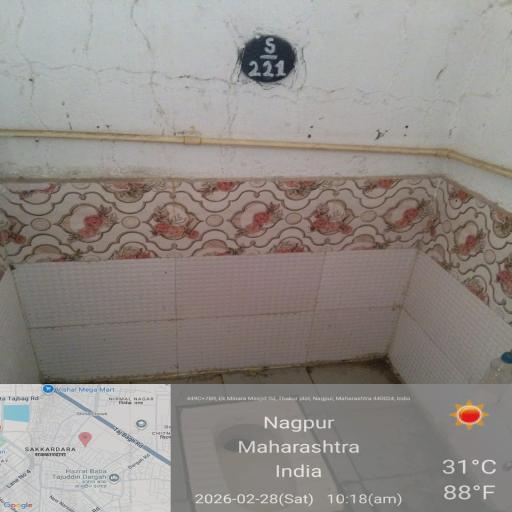clean_floor: (0, 208, 505, 332)
partial_dirty_floor: (0, 2, 512, 184), (38, 345, 438, 389), (469, 339, 512, 391)
